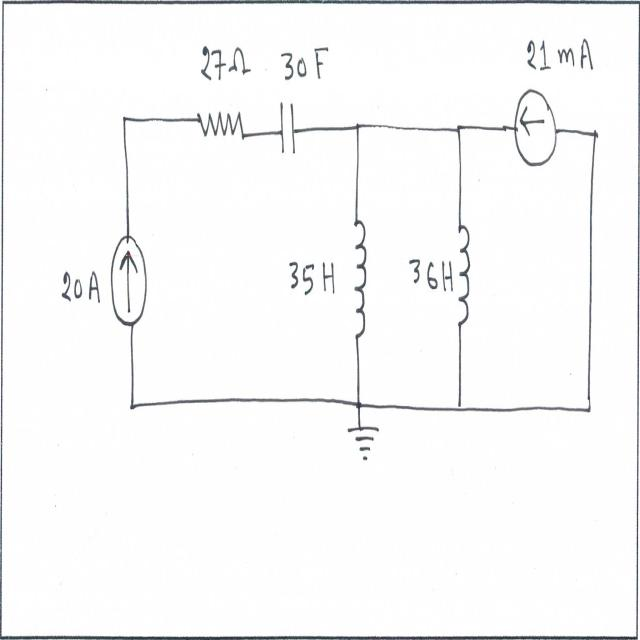capacitor: (274, 91, 300, 158)
current_source: (513, 70, 562, 178), (108, 226, 148, 331)
ground: (343, 420, 385, 466)
inductor: (348, 200, 372, 352), (454, 212, 475, 337)
resistor: (194, 98, 248, 156)
